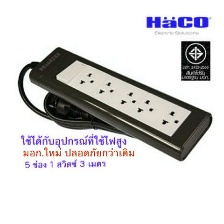three_eye_plug: (25, 45, 212, 162)
